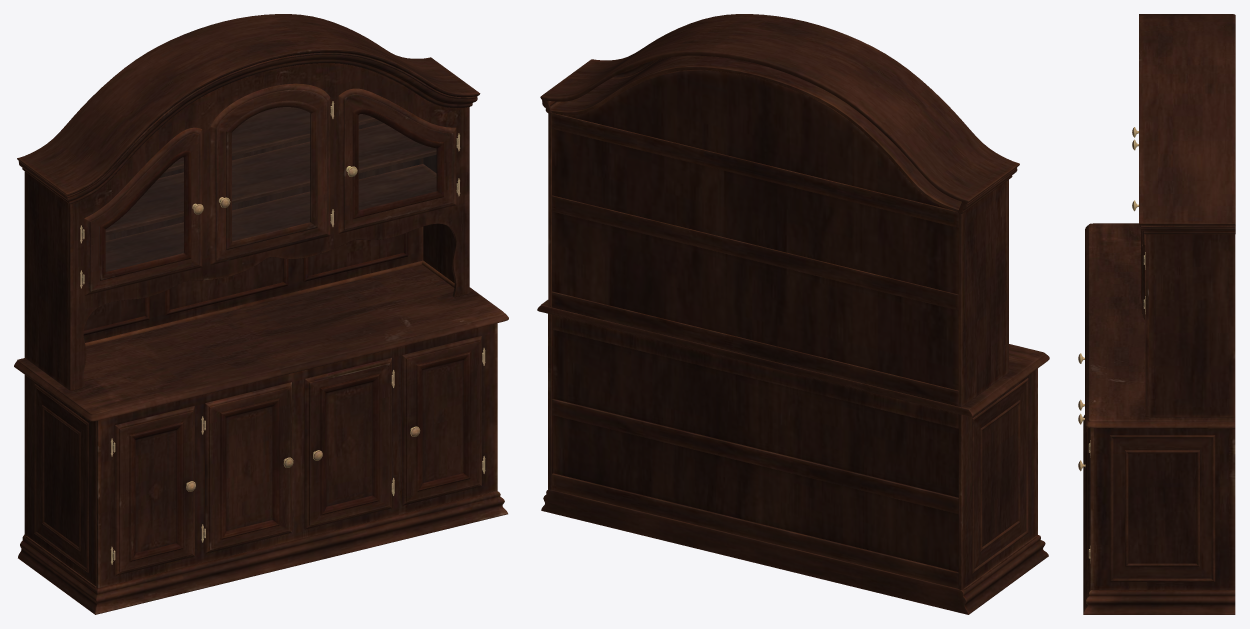
The model's file is vintage_cabinet_01.glb.
3 views of the same model, side by side, from view 1: azimuth 30°, elevation 25°; view 2: azimuth 150°, elevation 25°; view 3: azimuth 270°, elevation 25° (orthographic). The views are drawn at different scales.
Parts seen in each view (by area): view 1: vintage_cabinet_01_body, vintage_cabinet_01_door_03, vintage_cabinet_01_door_01, vintage_cabinet_01_door_04, vintage_cabinet_01_door_07, vintage_cabinet_01_door_06, vintage_cabinet_01_door_05, vintage_cabinet_01_door_02; view 2: vintage_cabinet_01_body; view 3: vintage_cabinet_01_body, vintage_cabinet_01_door_02, vintage_cabinet_01_door_04.
Part boxes in pixels (x1=…): vintage_cabinet_01_body: x1=14, y1=14, x2=508, y2=614; vintage_cabinet_01_door_03: x1=210, y1=83, x2=332, y2=264; vintage_cabinet_01_door_01: x1=82, y1=127, x2=203, y2=295; vintage_cabinet_01_door_04: x1=338, y1=88, x2=458, y2=233; vintage_cabinet_01_door_07: x1=304, y1=357, x2=392, y2=529; vintage_cabinet_01_door_06: x1=204, y1=382, x2=293, y2=553; vintage_cabinet_01_door_05: x1=113, y1=406, x2=195, y2=575; vintage_cabinet_01_door_02: x1=402, y1=335, x2=483, y2=505; vintage_cabinet_01_body: x1=537, y1=14, x2=1049, y2=614; vintage_cabinet_01_body: x1=1083, y1=14, x2=1235, y2=614; vintage_cabinet_01_door_02: x1=1078, y1=427, x2=1090, y2=572; vintage_cabinet_01_door_04: x1=1132, y1=200, x2=1145, y2=319.
Bounding box in the file's own units: 2.02 × 2.24 × 0.6698.
3 materials, 2 textured.
